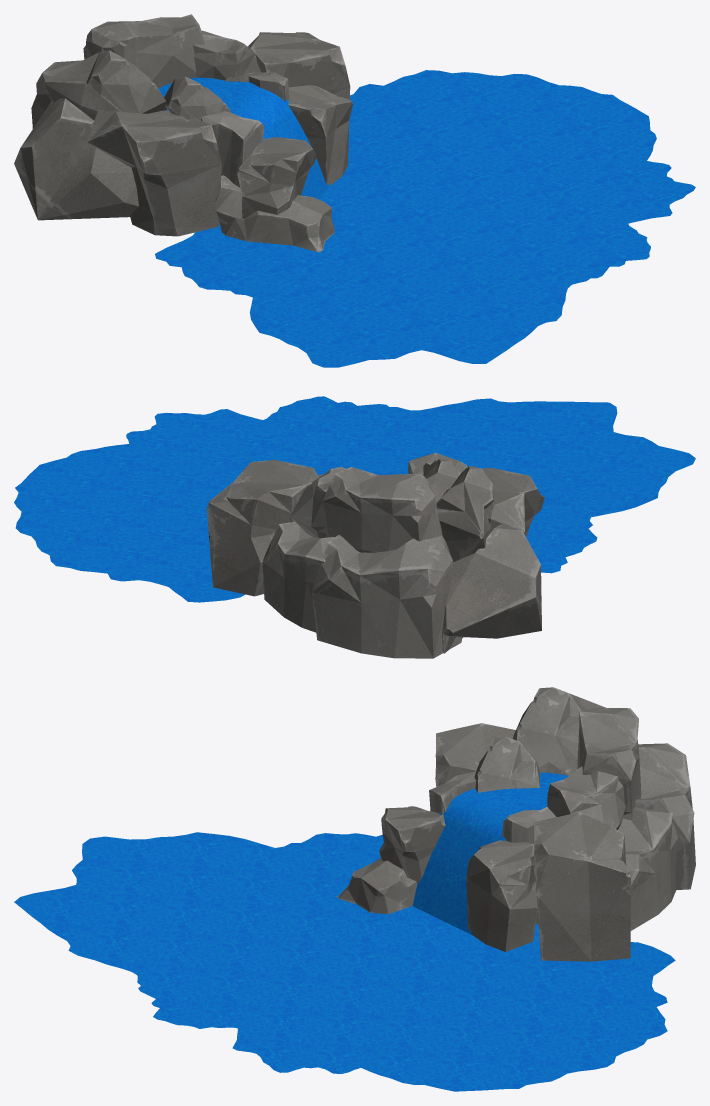
The model's file is Waterfall.glb.
3 views of the same model, one above another, from view 1: azimuth 30°, elevation 25°; view 2: azimuth 150°, elevation 25°; view 3: azimuth 270°, elevation 25° (orthographic). The views are drawn at different scales.
Visible parts, largest first — view 1: WaterFall; view 2: WaterFall; view 3: WaterFall.
Boxes of the visible parts, left/top/right/bottom form: WaterFall: left=14, top=14, right=695, bottom=367; WaterFall: left=14, top=396, right=695, bottom=658; WaterFall: left=14, top=687, right=695, bottom=1091.
Size of the model in its own units: 6.49 by 1.64 by 6.45.
Materials: 2 (2 with a texture image).
